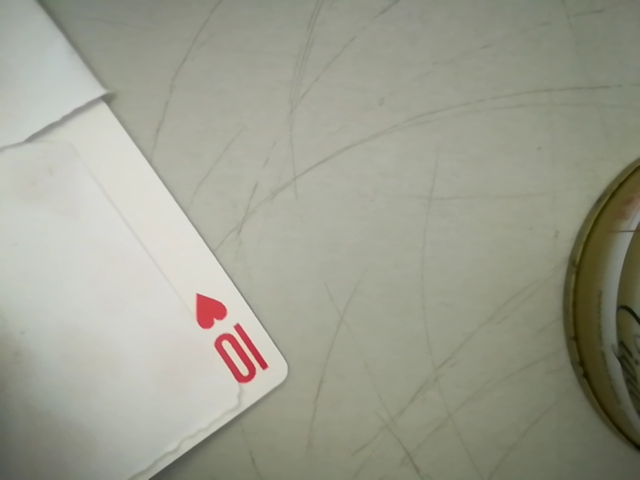hx 10: (185, 284, 277, 395)
